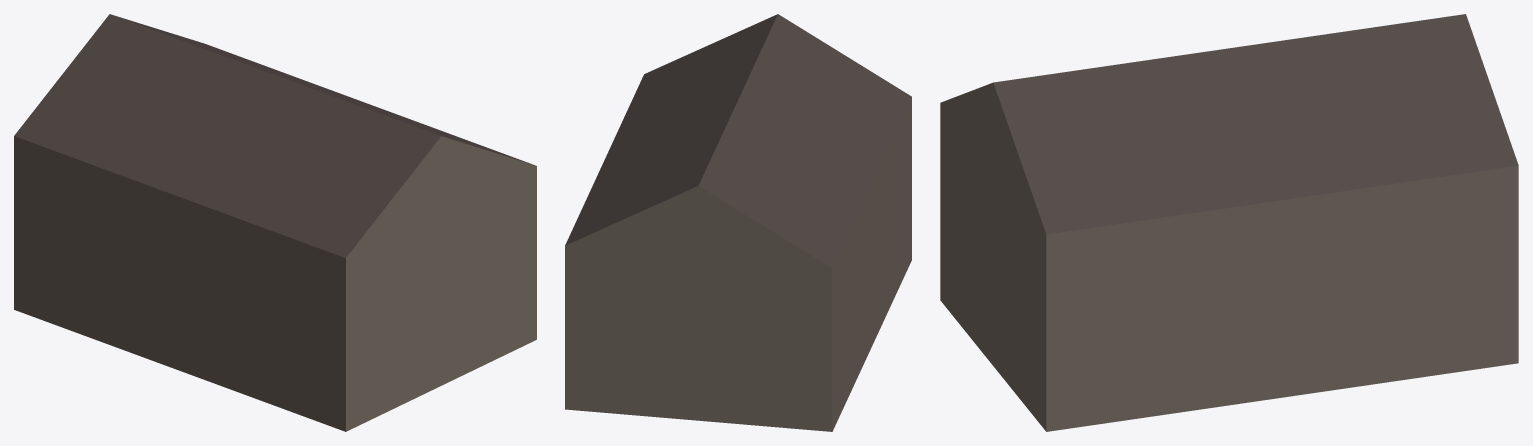
3 views of the same model, side by side, from view 1: azimuth 30°, elevation 25°; view 2: azimuth 150°, elevation 25°; view 3: azimuth 270°, elevation 25° (orthographic). The views are drawn at different scales.
Parts seen in each view (by area): view 1: HP-w1367350980; view 2: HP-w1367350980; view 3: HP-w1367350980.
Part boxes in pixels (box(x1,y1,x2,y2)): HP-w1367350980: box(14, 14, 536, 431); HP-w1367350980: box(565, 14, 911, 431); HP-w1367350980: box(940, 14, 1518, 431).
Bounding box in the file's own units: 13.06 × 8.62 × 15.94.
